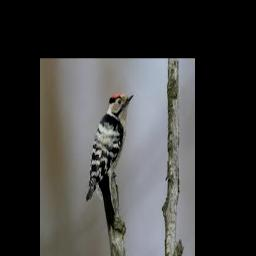Woodpecker: (86, 92, 134, 229)
